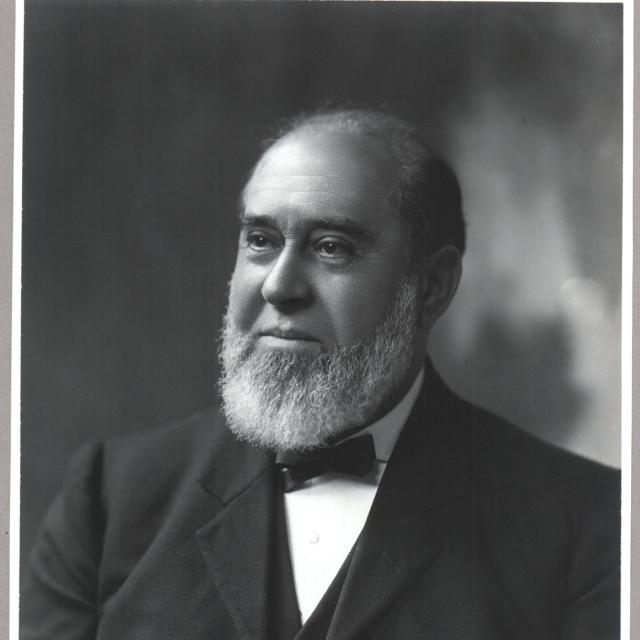no-glass: (248, 222, 358, 259)
